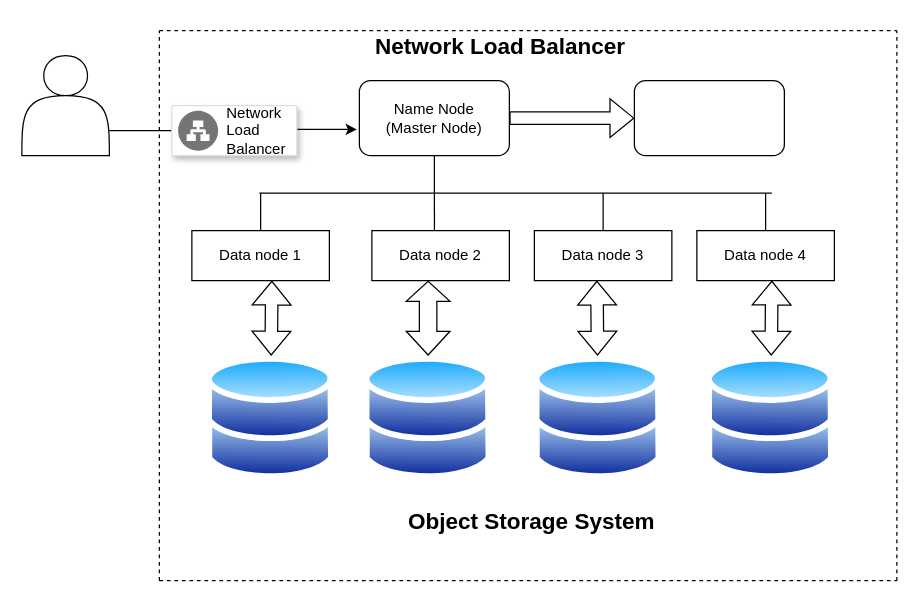
Some shapes in this 920 by 604 pixel diagram are drawn without their labels. Each missing label, with the centre of its shape:
Client: [65,105]
Meta node (Meta node: [708,117]
